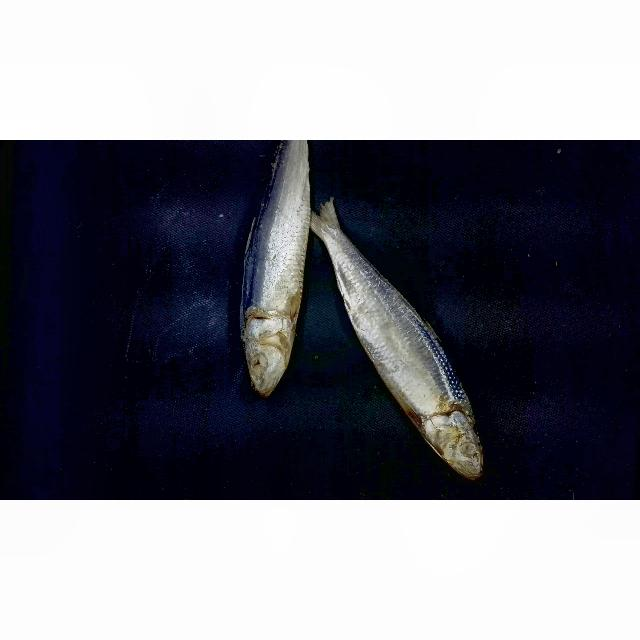Grade_A_Body: (334, 293, 486, 408), (236, 150, 309, 306)
Grade_A_Head: (406, 410, 498, 483), (238, 311, 299, 401)
Grade_A_Tail: (311, 201, 410, 288)
